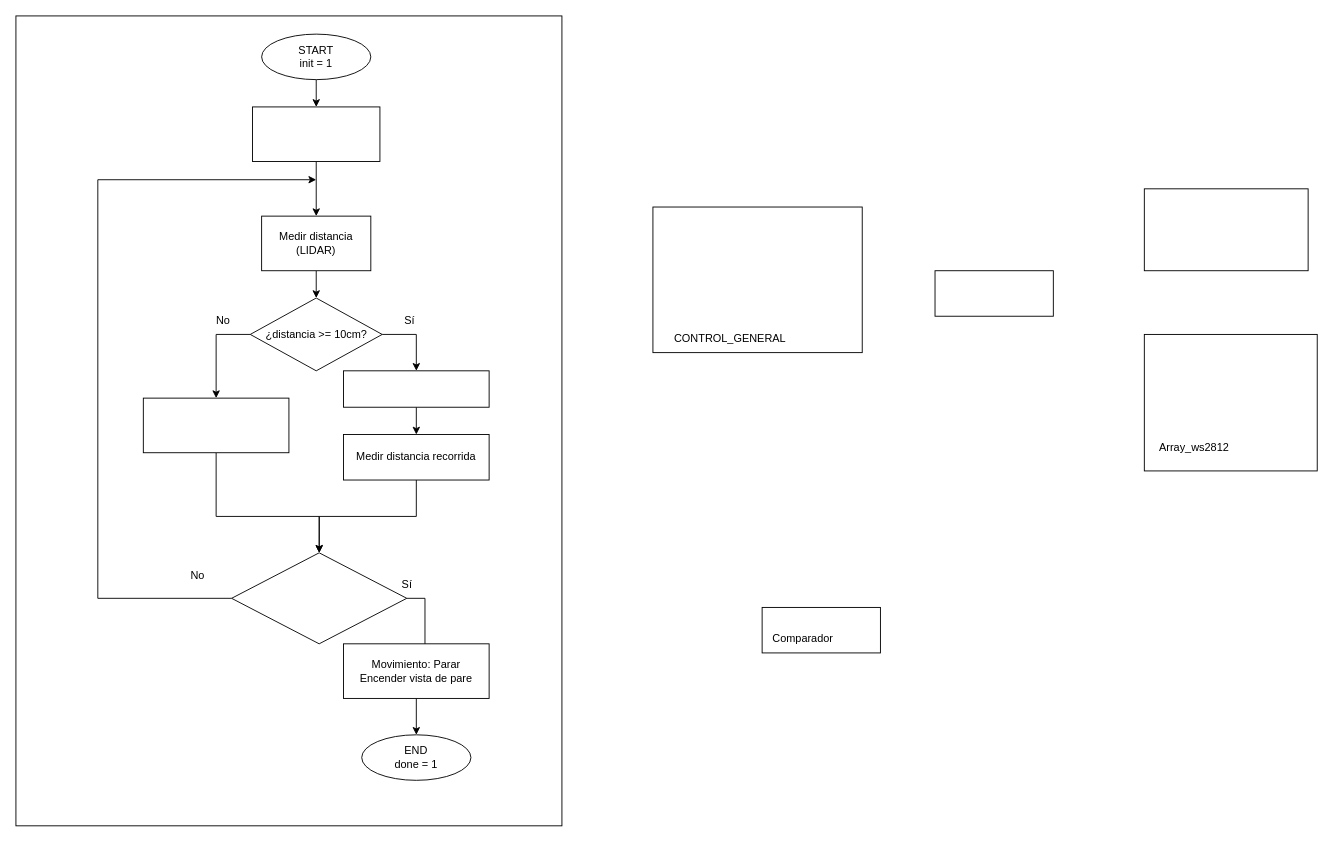
Some shapes in this 1333 by 842 pixel diagram are drawn without their labels. The shapes that lost their labels are listed below. From the top down, each one's centre as x and y in pixels, then its label:
At [316,134]: "rst = 1 Encender pantalla con vista de pare".
At [1225,229]: "tofsense f2 mini".
At [416,388]: "Movimiento: Avance Encender vista de avance".
At [215,425]: "Movimiento: Reversa Encender vista de reversa".
At [319,598]: "¿Distancia recorrida = n?".
